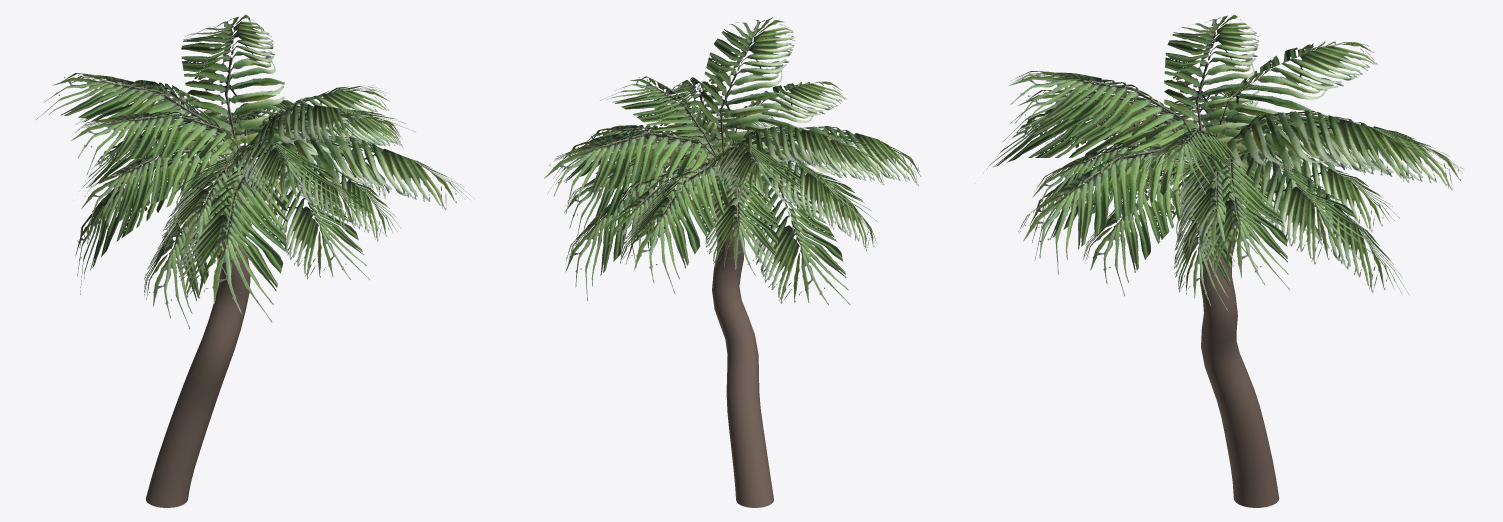
File: palm2.fbx
The picture shows the model from 3 angles, left to right: view 1: azimuth 30°, elevation 25°; view 2: azimuth 150°, elevation 25°; view 3: azimuth 270°, elevation 25°; orthographic projection. The views are drawn at different scales.
Parts seen in each view (by area): view 1: tree.004; view 2: tree.004; view 3: tree.004.
Boxes of the visible parts, x1=… form: tree.004: x1=36, y1=14, x2=474, y2=507; tree.004: x1=544, y1=17, x2=921, y2=507; tree.004: x1=987, y1=14, x2=1464, y2=507.
Size of the model in its own units: 1882 by 2125 by 2160.
